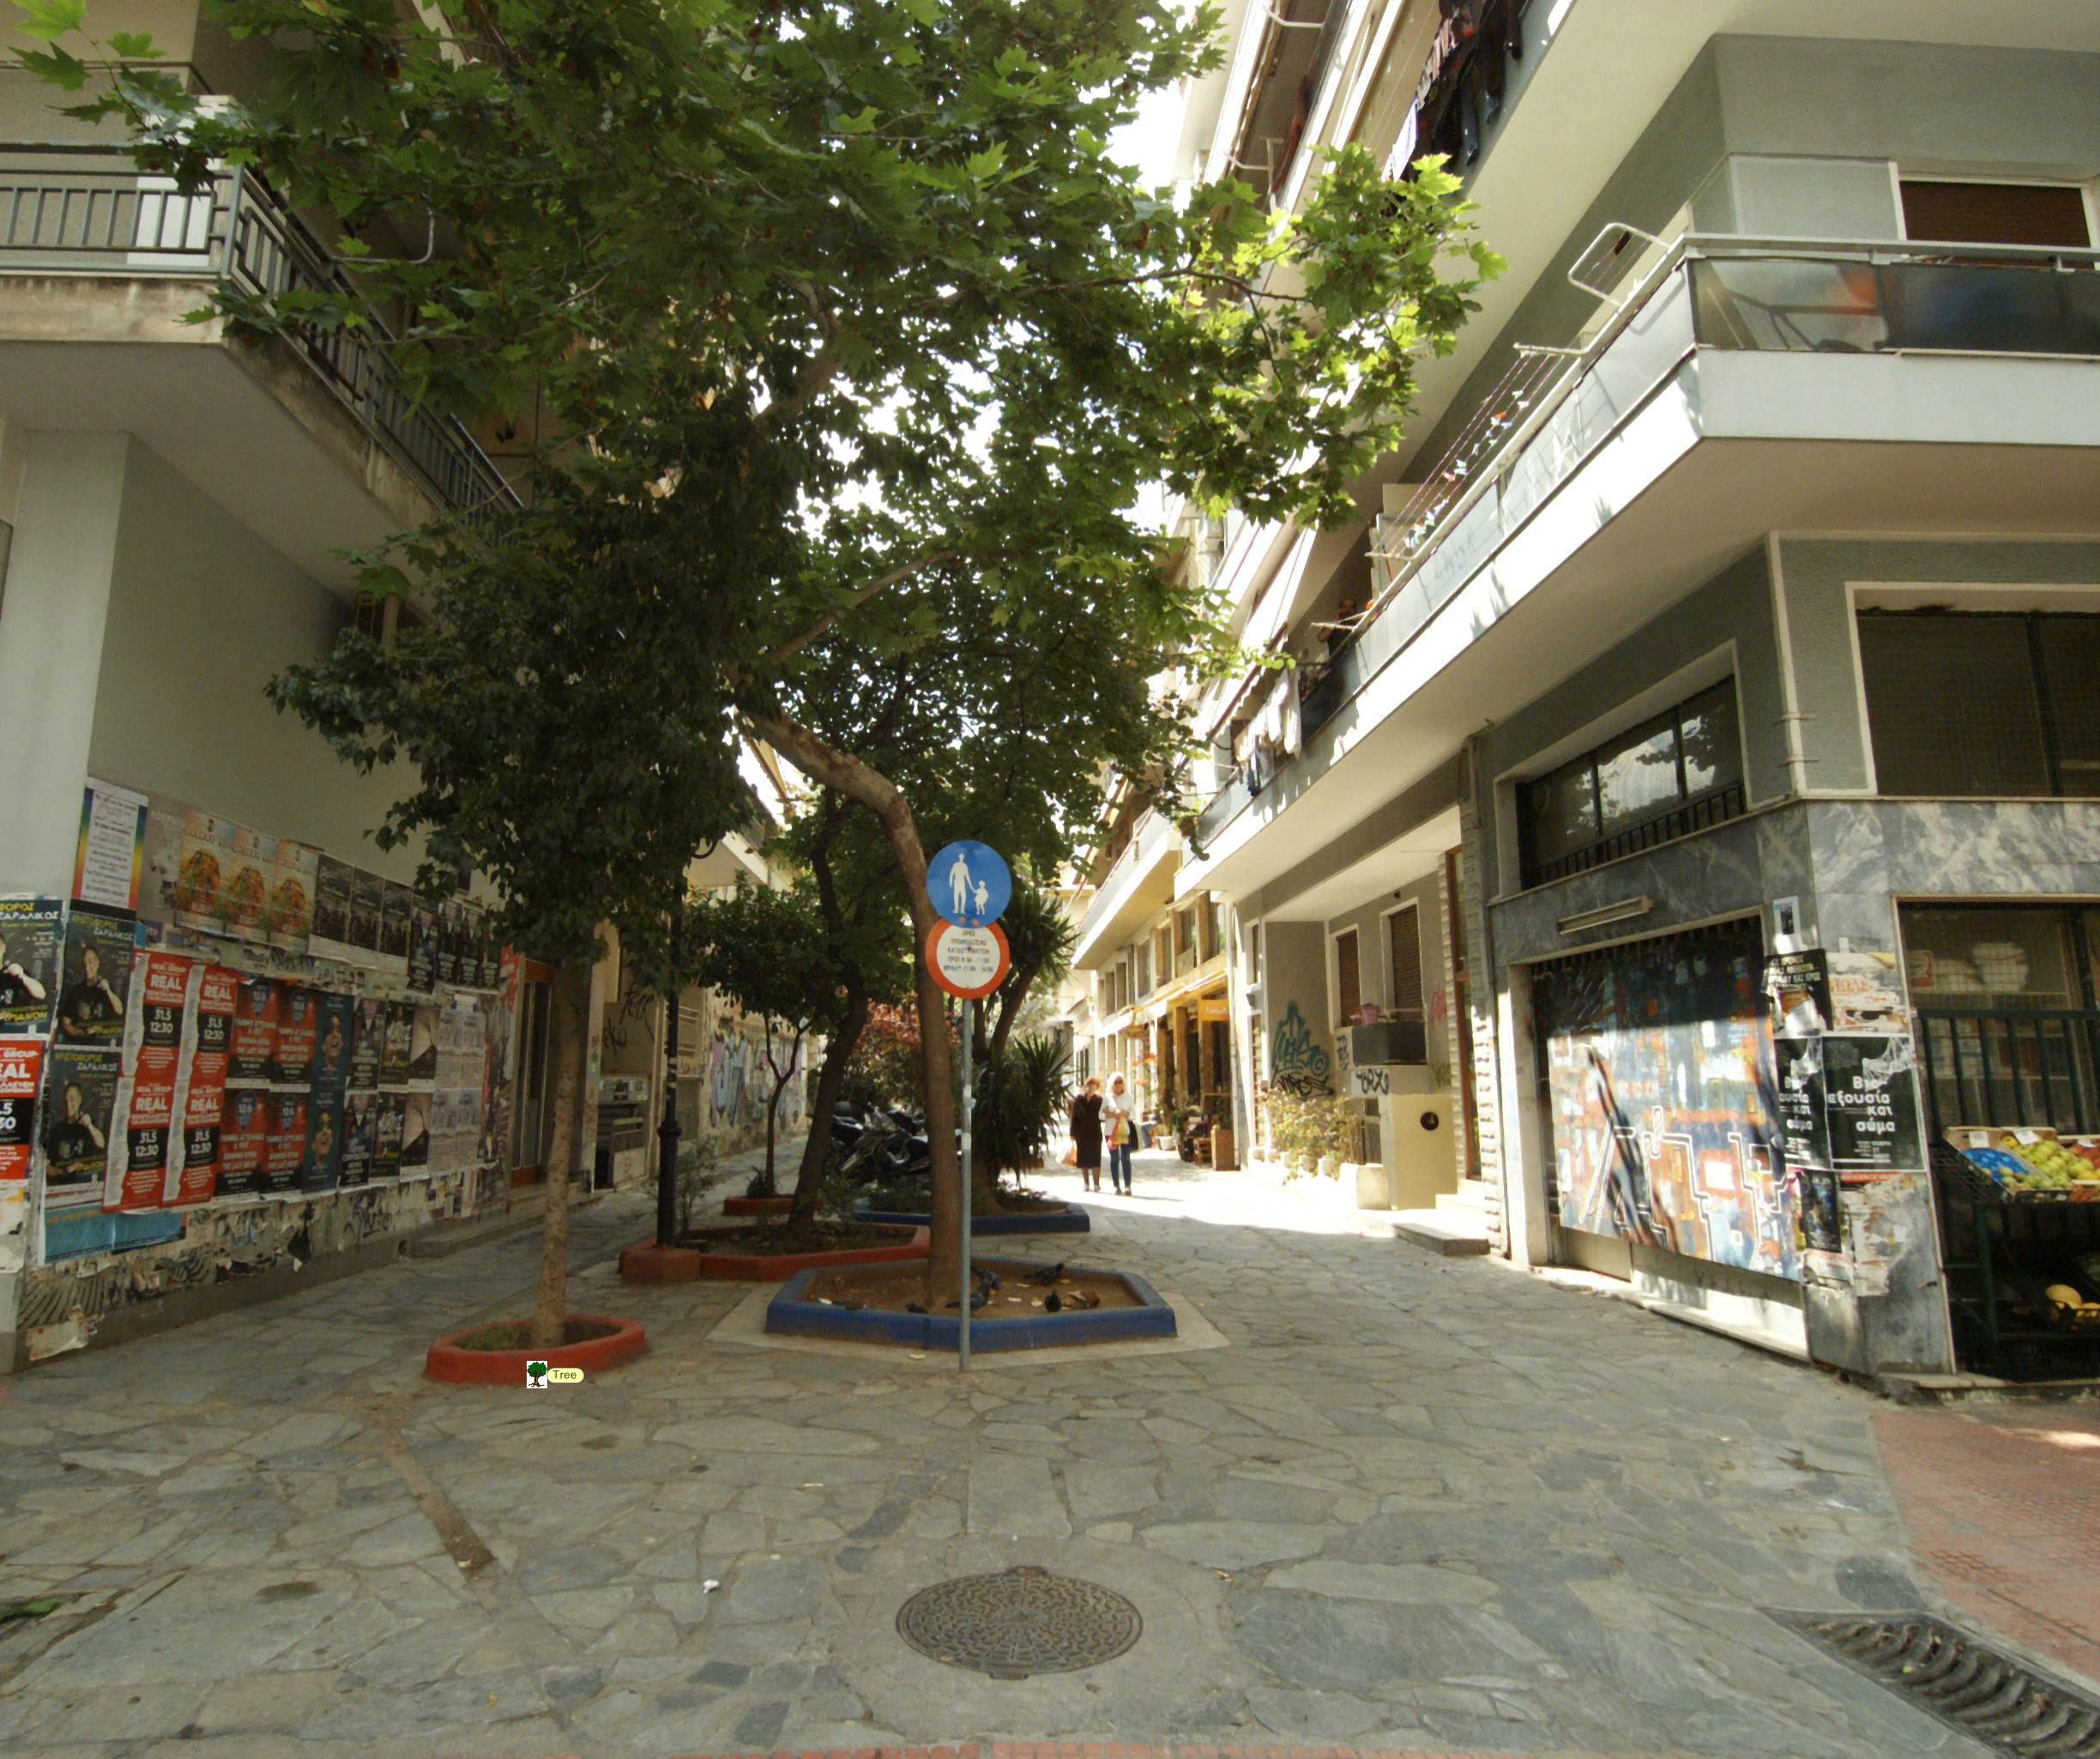tree: (234, 422, 773, 1436)
